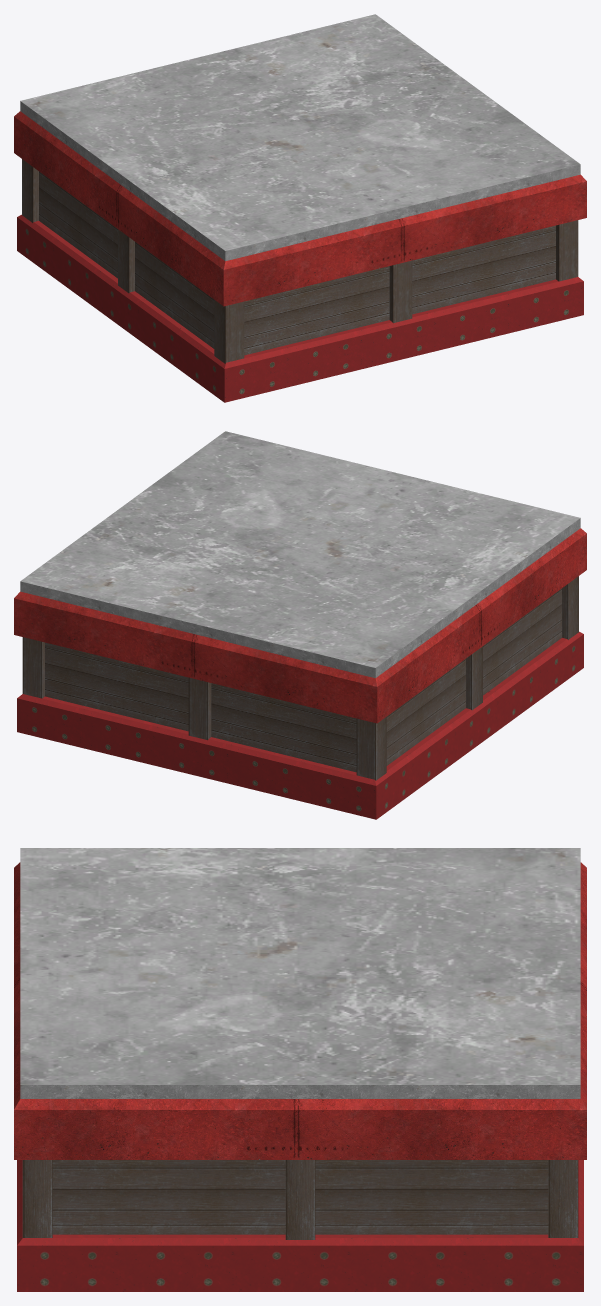
The model's file is Ob_PillarConnector_RC.fbx.
3 renders of one model, top to bottom at view 1: azimuth 30°, elevation 25°; view 2: azimuth 150°, elevation 25°; view 3: azimuth 270°, elevation 25°, orthographic. The views are drawn at different scales.
Parts seen in each view (by area): view 1: Ob_PillarConnector_RC; view 2: Ob_PillarConnector_RC; view 3: Ob_PillarConnector_RC.
Boxes of the visible parts, x1,y1,x2,y2 form: Ob_PillarConnector_RC: (14, 14, 586, 402); Ob_PillarConnector_RC: (14, 431, 586, 819); Ob_PillarConnector_RC: (14, 848, 586, 1291).
Size of the model in its own units: 1011 by 400 by 1011.
